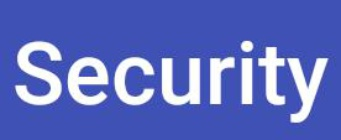TextView: (1, 1, 340, 139)
